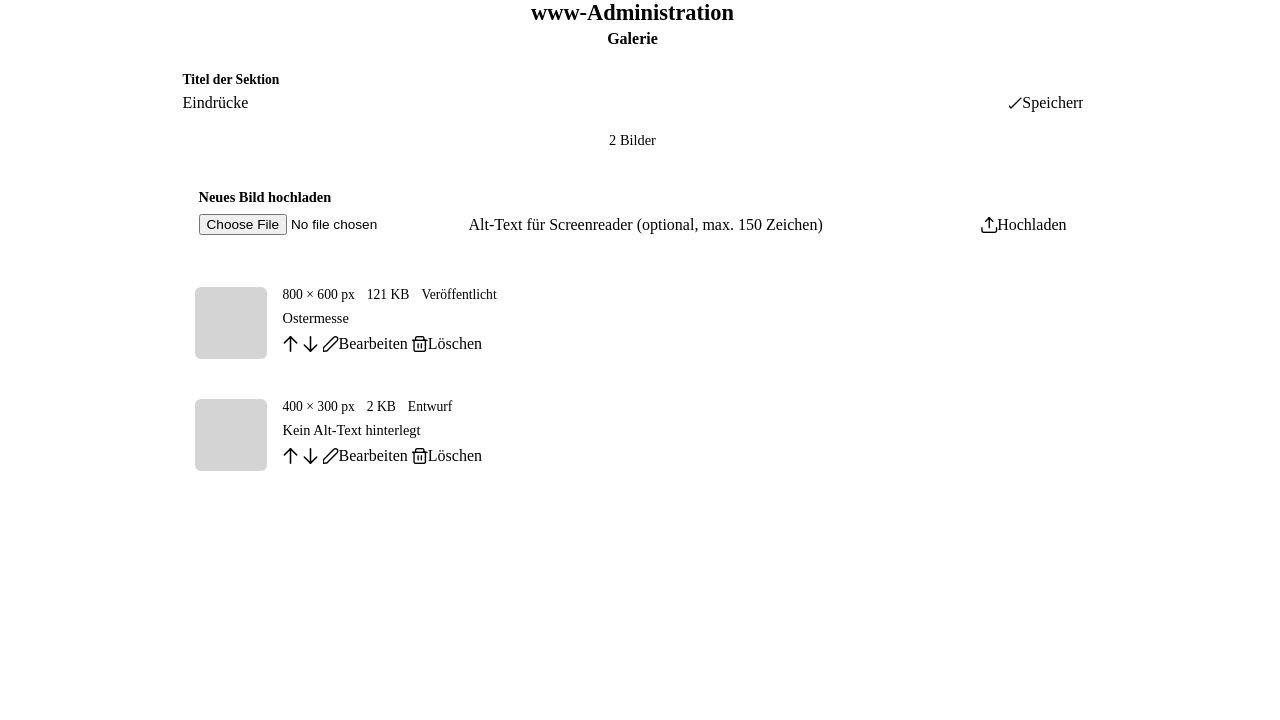
Test: GalleryAdminView › opens the edit dialog with the current caption and publish state
The image size is (1280, 720).
Click the button "Bearbeiten" below "Ostermesse": x=365, y=344 top-left (322, 335), bottom-right (408, 353)
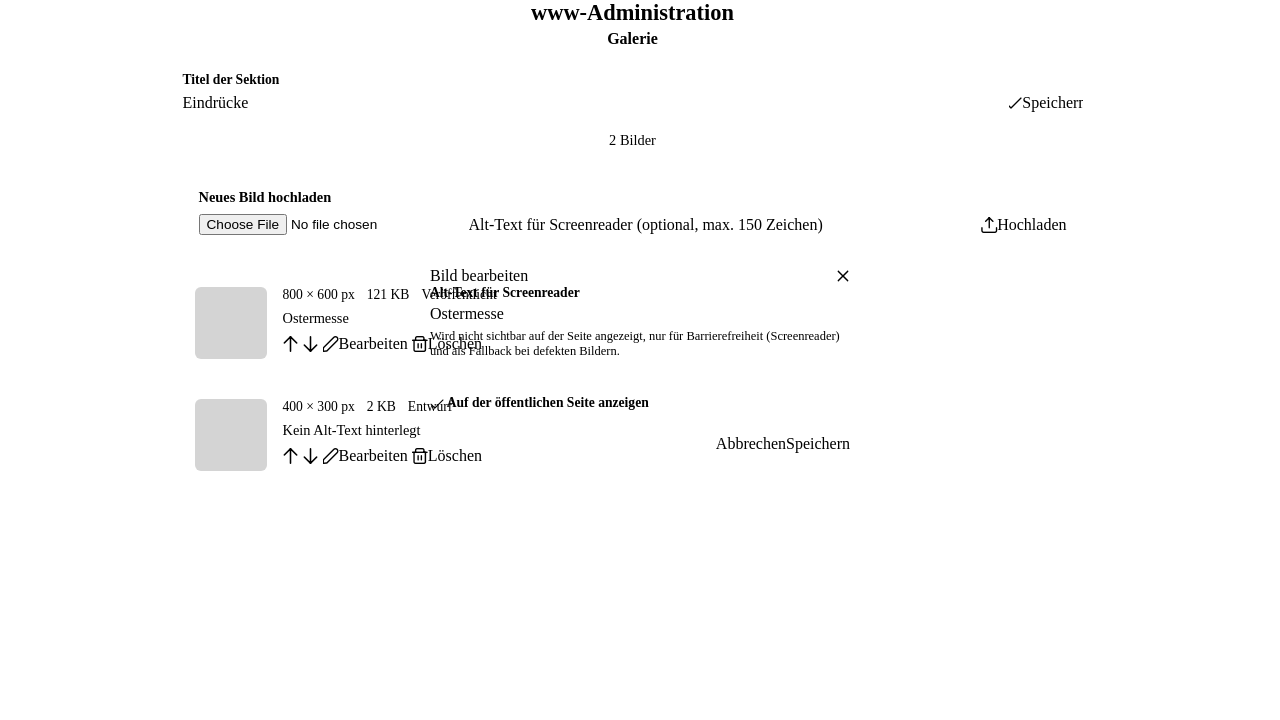
Result: the text "Bild bearbeiten" is shown at top-left (430, 267), bottom-right (528, 285)
